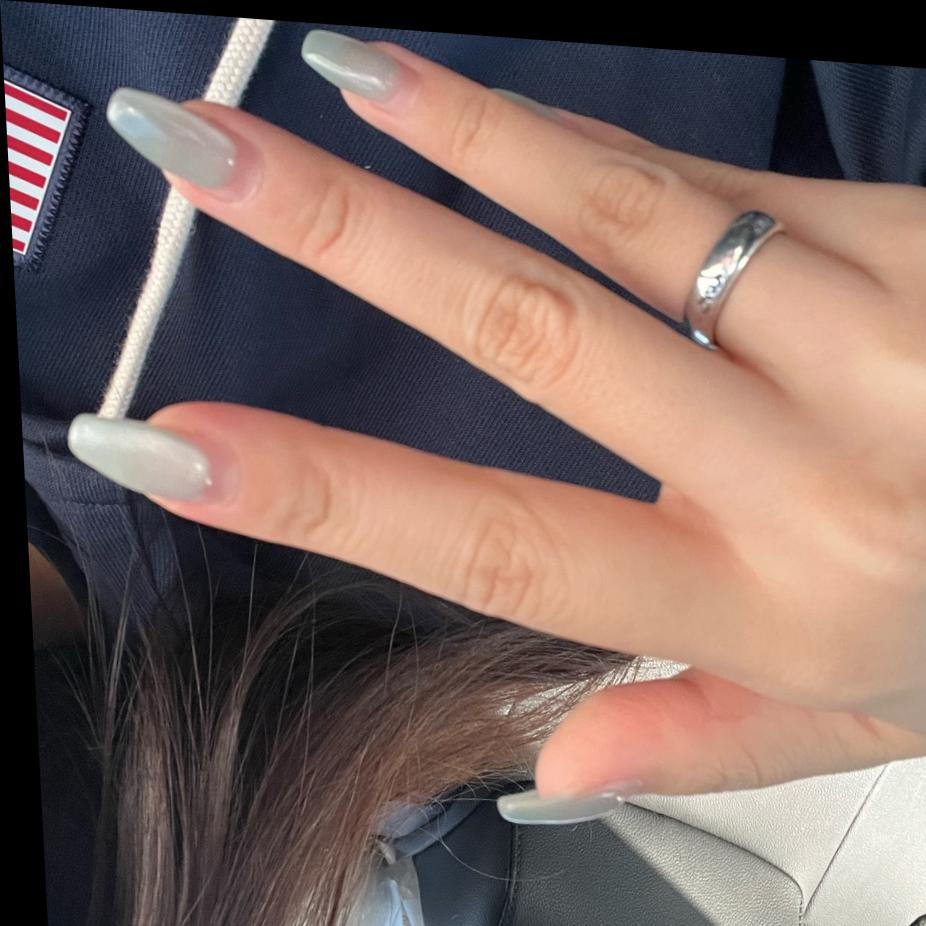nail: (104, 84, 243, 195), (65, 411, 216, 507), (299, 27, 408, 106), (496, 782, 629, 835)
